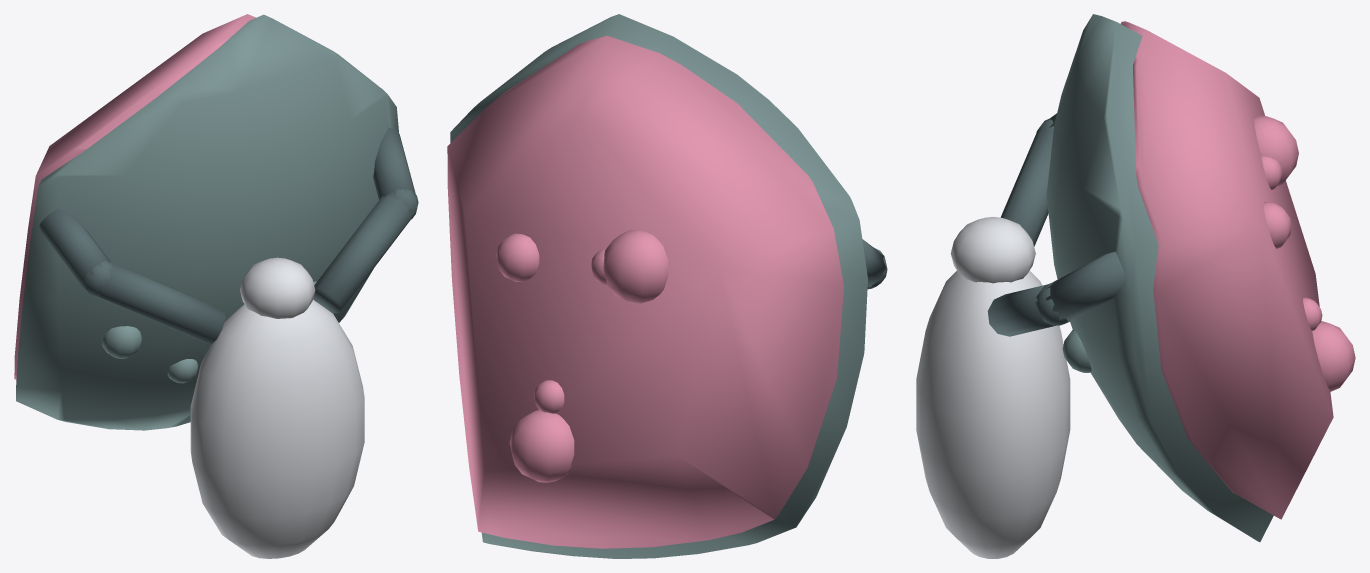
Rendered from chunk8.glb.
3 renders of one model, left to right at view 1: azimuth 30°, elevation 25°; view 2: azimuth 150°, elevation 25°; view 3: azimuth 270°, elevation 25°, orthographic. The views are drawn at different scales.
Parts seen in each view (by area): view 1: skin, collar, lip, flesh; view 2: flesh, skin, lip; view 3: flesh, collar, skin, lip.
Boxes of the visible parts, bbox=[...] form: skin: bbox=[16, 14, 398, 430]; collar: bbox=[190, 257, 364, 558]; lip: bbox=[39, 128, 418, 344]; flesh: bbox=[14, 14, 255, 379]; flesh: bbox=[447, 35, 843, 548]; skin: bbox=[450, 14, 867, 558]; lip: bbox=[862, 239, 887, 289]; flesh: bbox=[1120, 21, 1355, 519]; collar: bbox=[916, 216, 1070, 558]; skin: bbox=[1046, 14, 1273, 541]; lip: bbox=[987, 113, 1126, 336].
Size of the model in its own units: 1.36 by 1.72 by 1.24.
